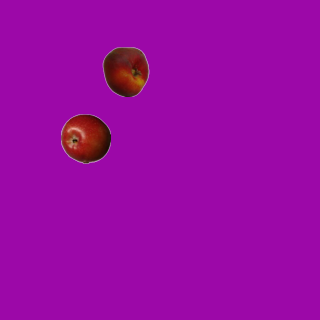Apple Braeburn: (60, 113, 110, 163)
Nectarine Flat: (100, 46, 150, 96)
